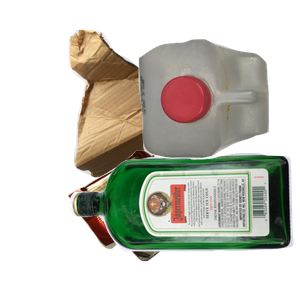cardboard: (66, 27, 242, 197)
glass: (67, 150, 300, 300)
plastic: (136, 37, 300, 188)
trash: (65, 148, 258, 300)
